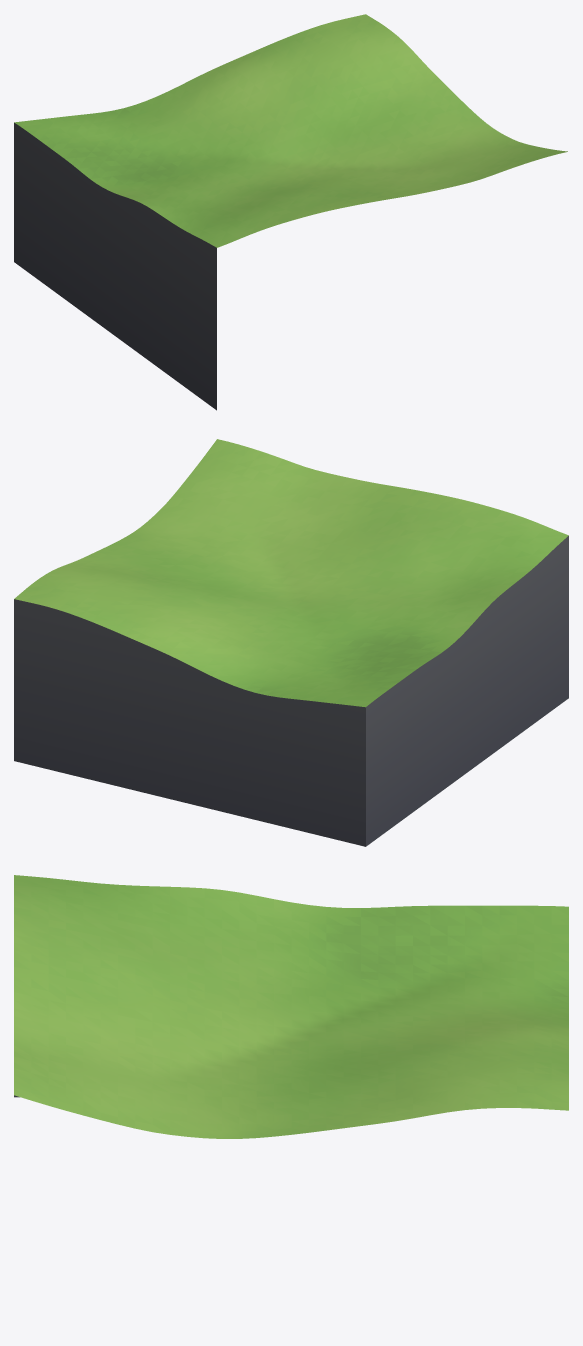
Rendered from terrain_r5_c0.glb.
3 views of the same model, one above another, from view 1: azimuth 30°, elevation 25°; view 2: azimuth 150°, elevation 25°; view 3: azimuth 270°, elevation 25° (orthographic). The views are drawn at different scales.
Visible parts, largest first — view 1: terrain_r5_c0; view 2: terrain_r5_c0; view 3: terrain_r5_c0.
Boxes of the visible parts, x1=… form: terrain_r5_c0: x1=14, y1=14, x2=567, y2=410; terrain_r5_c0: x1=14, y1=439, x2=568, y2=846; terrain_r5_c0: x1=14, y1=875, x2=568, y2=1138.
Size of the model in its own units: 128 by 60.29 by 128.
1 material, 1 textured.
